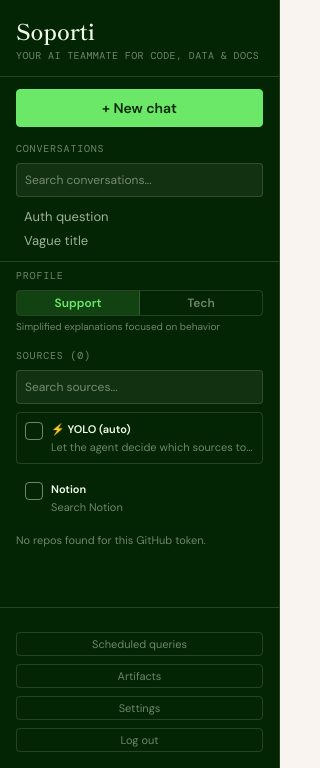
Scenario: Sidebar › conversations history › searches the conversations and restores the full list when the search is cleared
The width and height of the screenshot is (320, 768).
Expected: the text "Auth question" is shown, [24, 208, 109, 225]
Type "refund" into the field labelled "Search conversations" at point(140, 180), box [16, 163, 263, 197]
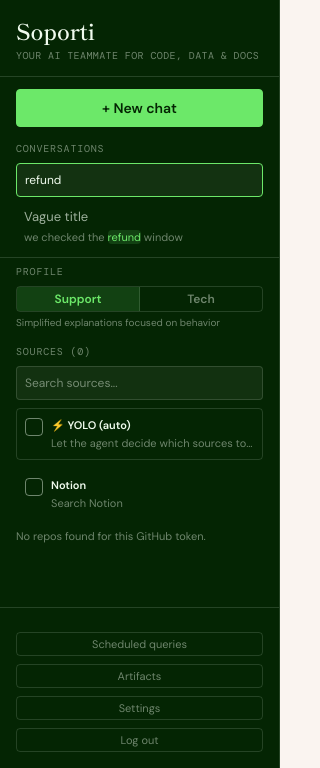
Expected: the text "Vague title" is shown, [24, 208, 88, 225]
Now the text "Auth question" is gone
Now the text "refund" is shown, box [108, 230, 141, 244]
Clear the field named "Search conversations" at point(140, 180), box [16, 163, 263, 197]
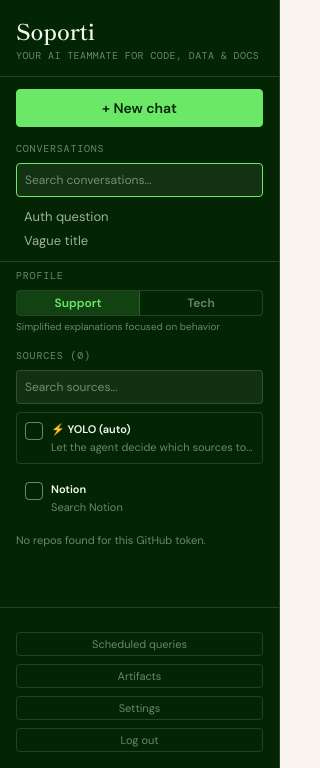
Now the text "Auth question" is shown, box [24, 208, 109, 225]
Now the text "refund" is gone
